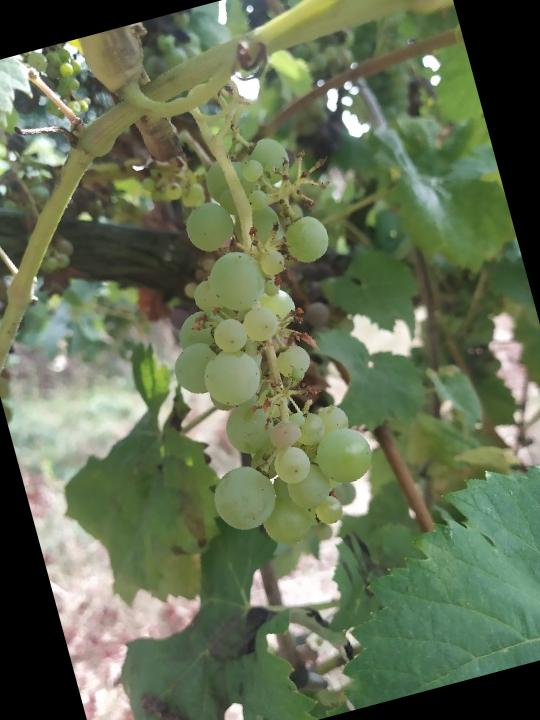grape: (118, 127, 407, 569)
